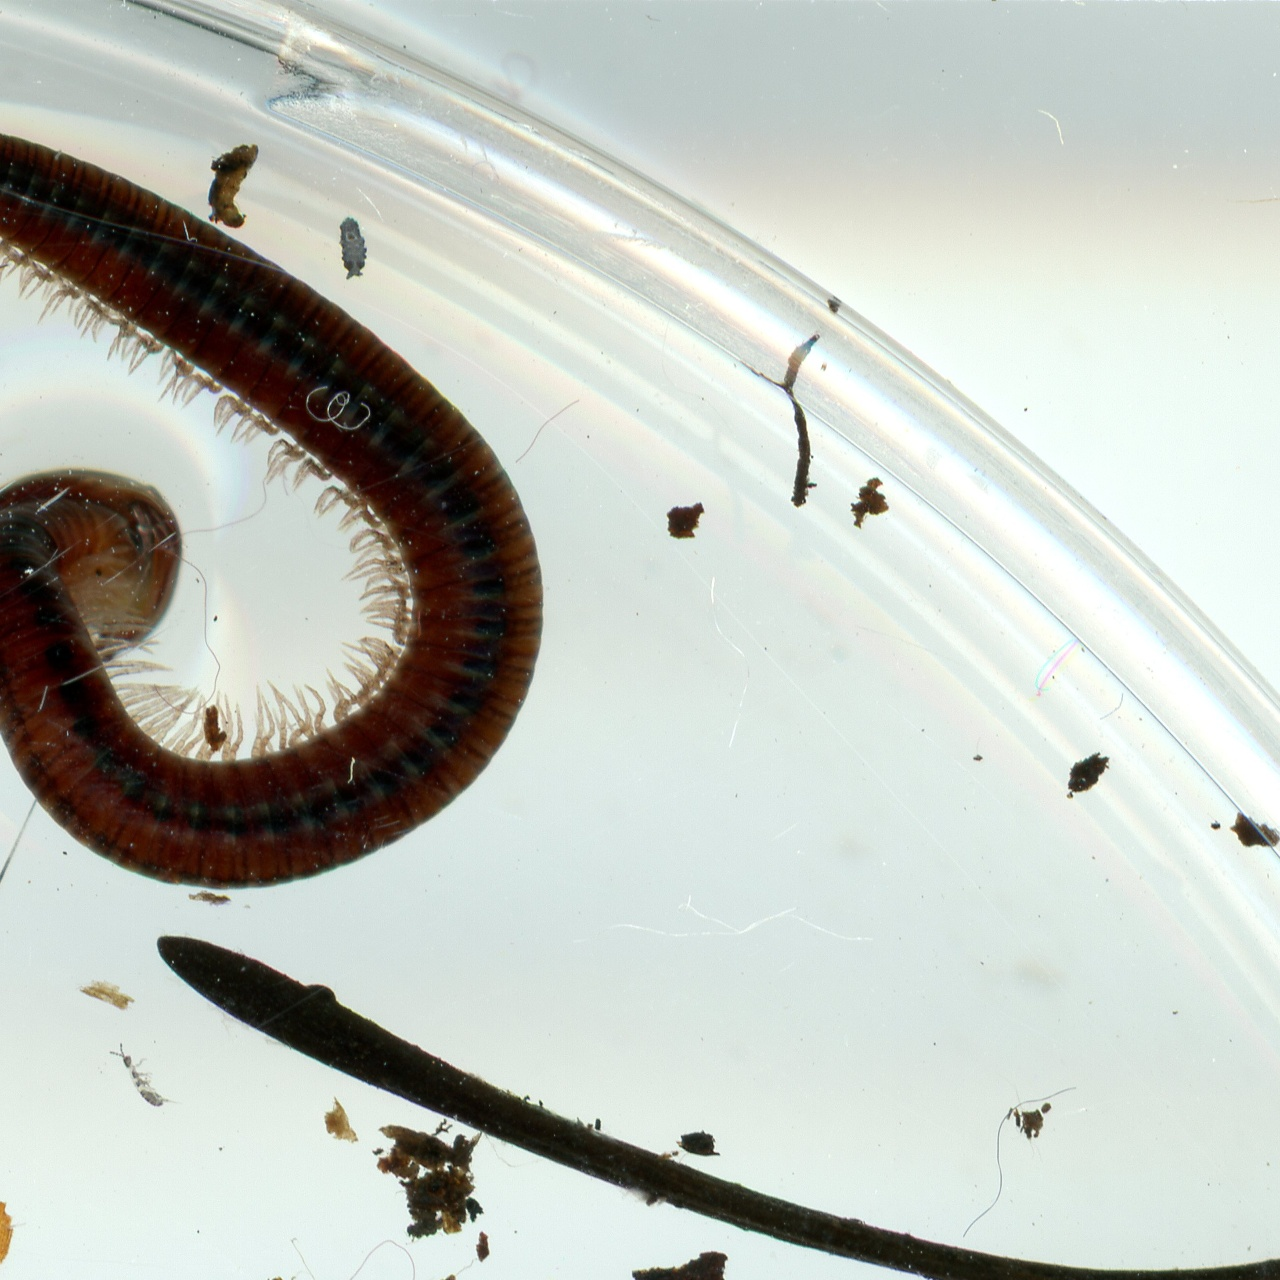arthropod: (0, 93, 552, 894), (105, 1030, 185, 1125), (338, 212, 370, 281)
